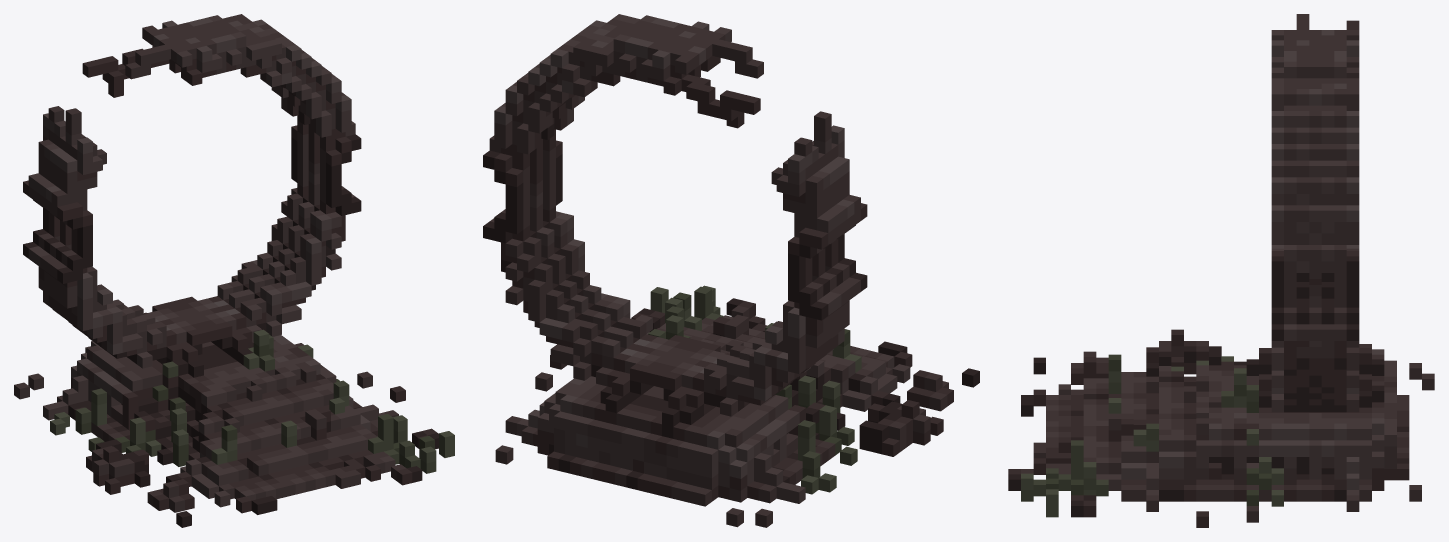
Rendered from portal.glb.
3 renders of one model, left to right at view 1: azimuth 30°, elevation 25°; view 2: azimuth 150°, elevation 25°; view 3: azimuth 270°, elevation 25°, orthographic. The views are drawn at different scales.
Visible parts, largest first — view 1: Portal_Arch, Portal_Stairs; view 2: Portal_Arch, Portal_Stairs; view 3: Portal_Stairs, Portal_Arch.
Part boxes in pixels (x1,y1,x2,y2): Portal_Arch: (23,14,361,377); Portal_Stairs: (14,329,454,527); Portal_Arch: (483,14,867,426); Portal_Stairs: (495,285,979,527); Portal_Stairs: (1008,329,1434,527); Portal_Arch: (1246,14,1384,412).
Size of the model in its own units: 3.2 by 3.5 by 3.4.
Materials: 2 (2 with a texture image).
